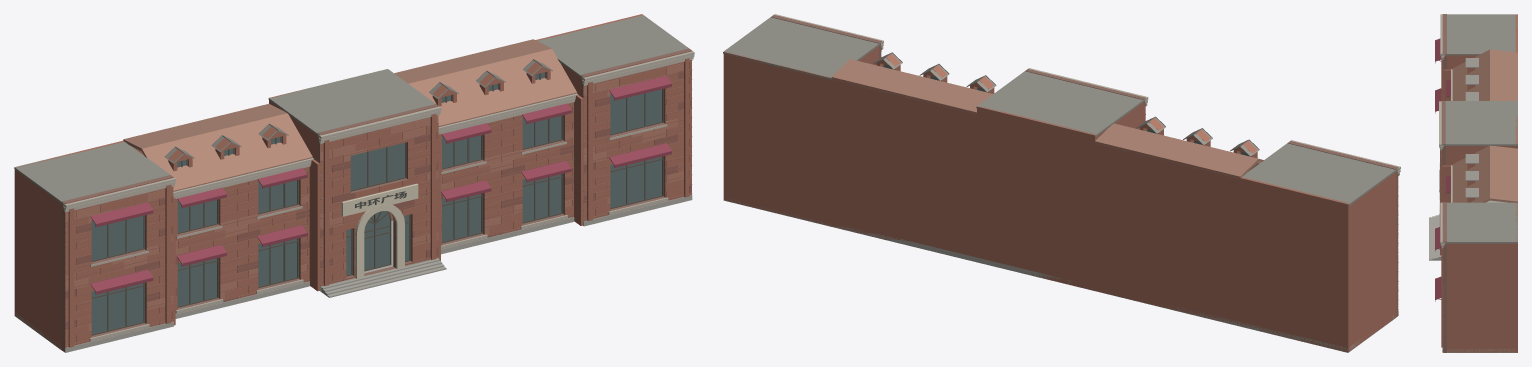
Rendered from huangpu-french-municipal-council-front-lod.glb.
The picture shows the model from 3 angles, left to right: view 1: azimuth 30°, elevation 25°; view 2: azimuth 150°, elevation 25°; view 3: azimuth 270°, elevation 25°; orthographic projection. The views are drawn at different scales.
Parts seen in each view (by area): view 1: 法公董局旧址（淮海中路保留立面）; view 2: 法公董局旧址（淮海中路保留立面）; view 3: 法公董局旧址（淮海中路保留立面）.
Part boxes in pixels (left/top/right/bottom): 法公董局旧址（淮海中路保留立面）: left=14, top=14, right=694, bottom=352; 法公董局旧址（淮海中路保留立面）: left=723, top=14, right=1400, bottom=352; 法公董局旧址（淮海中路保留立面）: left=1429, top=14, right=1517, bottom=352.
Bounding box in the file's own units: 59.43 × 14.2 × 9.77.
